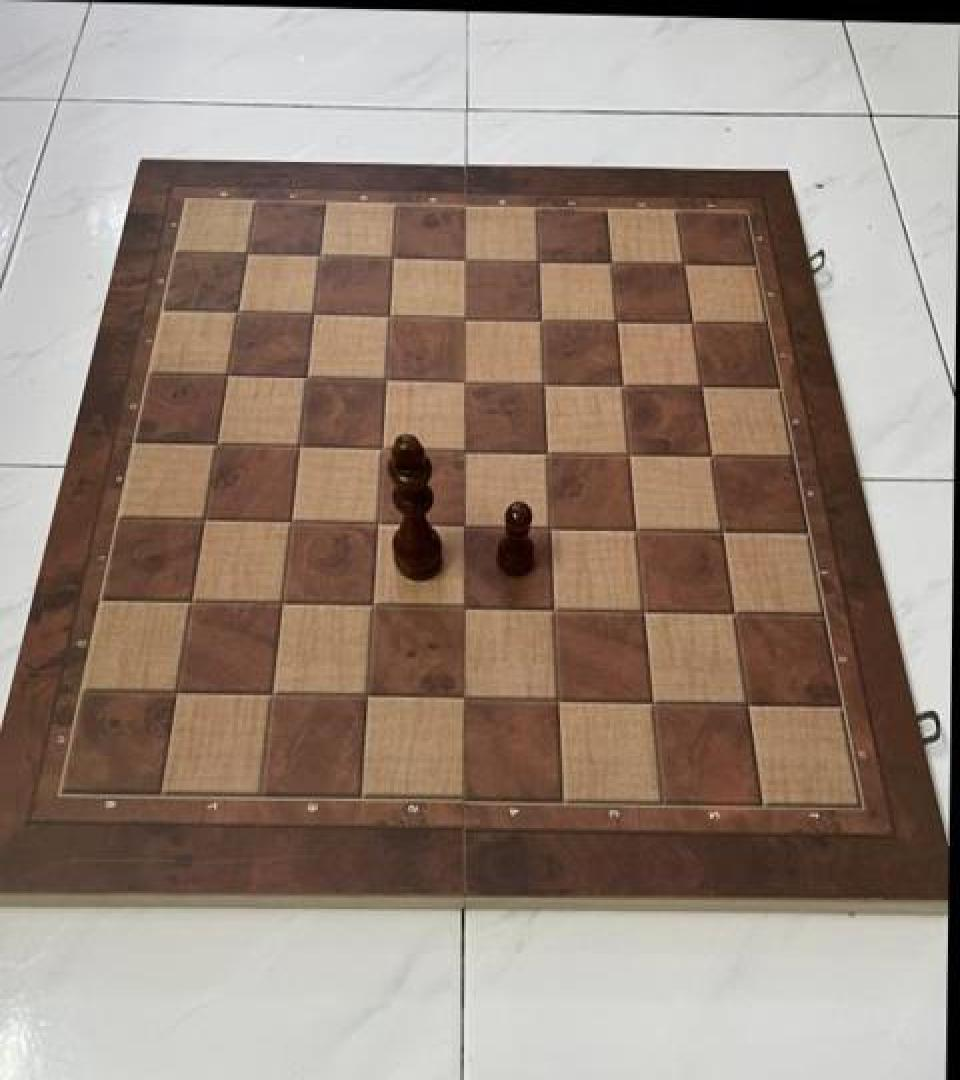xcorner: (377, 237, 411, 276), (221, 291, 255, 330), (731, 686, 765, 725), (230, 233, 264, 271), (304, 235, 338, 273), (450, 238, 484, 276), (523, 241, 557, 279), (596, 243, 630, 281), (669, 246, 703, 284), (297, 294, 331, 332), (374, 296, 408, 334), (450, 298, 484, 336), (526, 300, 560, 338), (601, 303, 635, 341), (677, 304, 711, 342), (211, 356, 245, 394), (291, 358, 325, 396), (370, 360, 404, 398), (449, 362, 483, 400), (529, 364, 563, 402), (607, 366, 641, 404), (686, 368, 720, 406), (200, 426, 234, 464), (283, 428, 317, 466), (366, 430, 400, 468), (449, 431, 483, 469), (531, 433, 565, 471), (614, 436, 648, 474), (696, 438, 730, 476), (188, 501, 222, 539), (275, 503, 309, 541), (362, 505, 396, 543), (535, 508, 569, 546), (621, 511, 655, 549), (706, 513, 740, 551), (175, 584, 209, 622), (266, 586, 300, 624), (357, 588, 391, 626), (448, 590, 482, 628), (538, 592, 572, 630), (628, 594, 662, 632), (718, 595, 752, 633), (161, 675, 195, 713), (257, 678, 291, 716), (352, 680, 386, 718), (447, 681, 481, 719), (542, 683, 576, 721), (637, 685, 671, 723), (448, 508, 482, 545)
